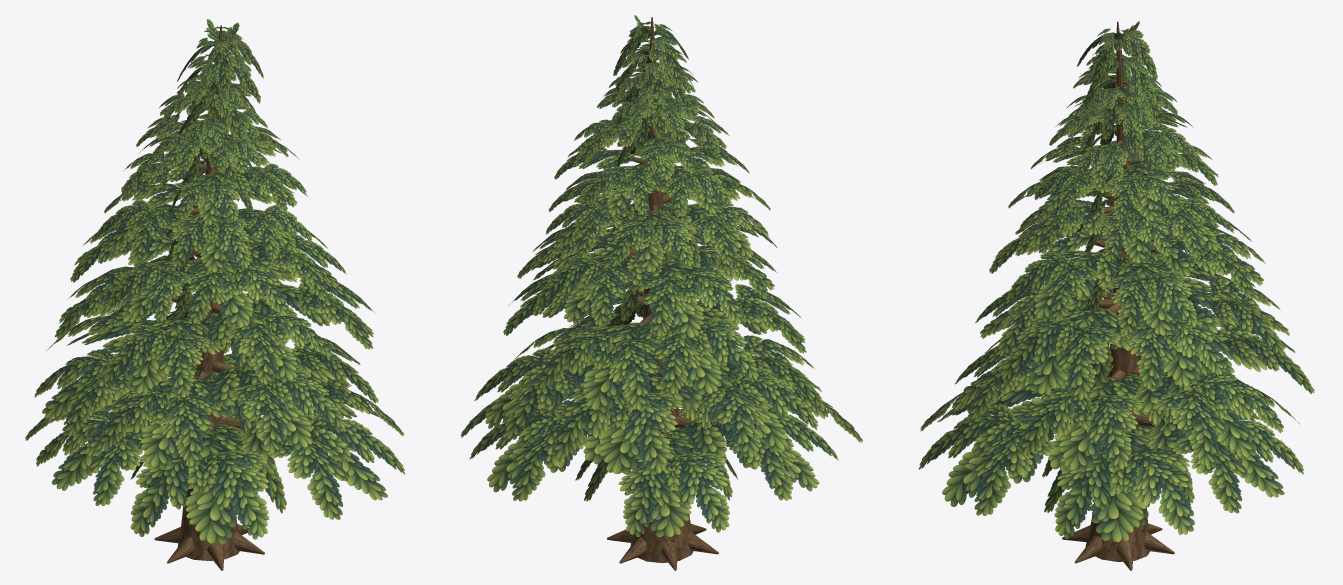
The model's file is fir-zero.glb.
3 views of the same model, side by side, from view 1: azimuth 30°, elevation 25°; view 2: azimuth 150°, elevation 25°; view 3: azimuth 270°, elevation 25° (orthographic). The views are drawn at different scales.
Visible parts, largest first — view 1: foliage_cards, trunk_and_branches; view 2: foliage_cards, trunk_and_branches; view 3: foliage_cards, trunk_and_branches.
Part boxes in pixels (x1,y1,x2,y2): foliage_cards: (25, 19, 405, 543); trunk_and_branches: (154, 25, 264, 570); foliage_cards: (460, 15, 862, 537); trunk_and_branches: (607, 17, 718, 570); foliage_cards: (918, 21, 1314, 542); trunk_and_branches: (1062, 21, 1174, 570).
Bounding box in the file's own units: 4.46 × 6.25 × 4.48.
Materials: 2 (2 with a texture image).
